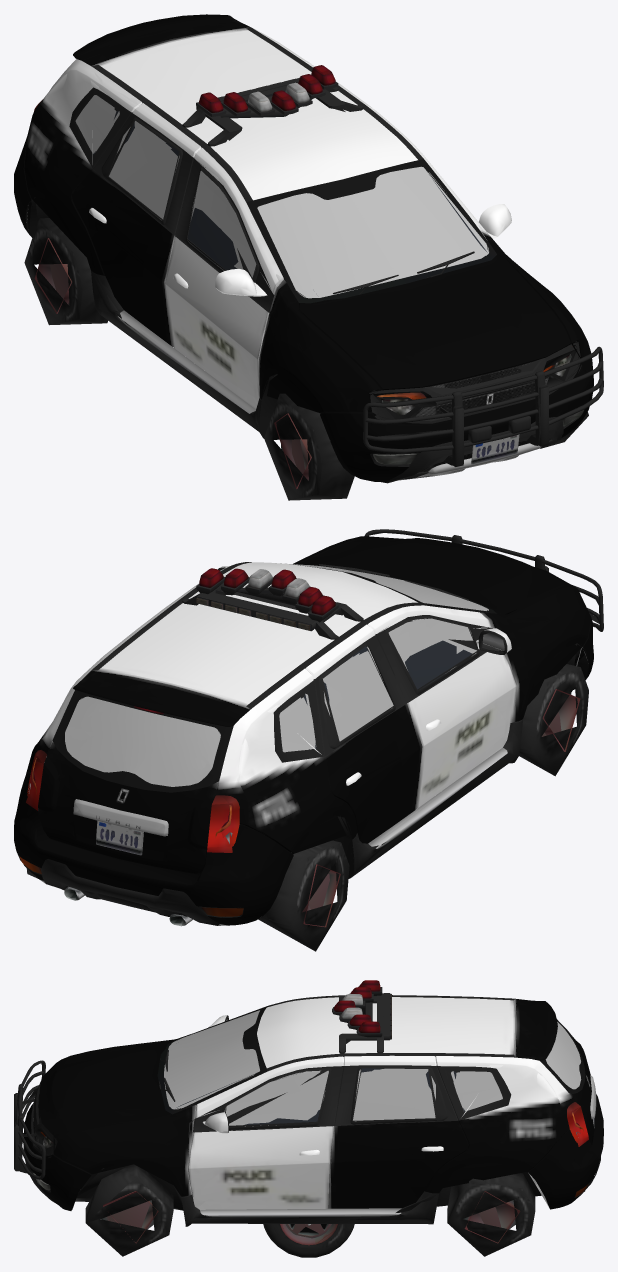
File: police.glb
3 renders of one model, top to bottom at view 1: azimuth 30°, elevation 25°; view 2: azimuth 150°, elevation 25°; view 3: azimuth 270°, elevation 25°, orthographic. The views are drawn at different scales.
Visible parts, largest first — view 1: kit0, far, kit1, glass0, glass1; view 2: kit0, far, kit1, glass0, glass1; view 3: kit0, far, kit1, glass0, glass1, wheel0, wheel1.
Part boxes in pixels (x1,y1,x2,y2): kit0: (14,14,603,483); far: (14,22,588,500); kit1: (16,14,602,480); glass0: (75,95,488,298); glass1: (76,102,482,296); kit0: (14,529,603,926); far: (14,543,599,951); kit1: (16,530,599,925); glass0: (65,563,488,785); glass1: (71,563,477,786); kit0: (14,980,603,1226); far: (21,995,599,1256); kit1: (16,980,603,1223); glass0: (164,1010,580,1126); glass1: (164,1011,581,1125); wheel0: (263,1224,354,1257); wheel1: (272,1224,344,1251).
Bounding box in the file's own units: 1.88 × 2.05 × 4.36.
Materials: 1 (1 with a texture image).
